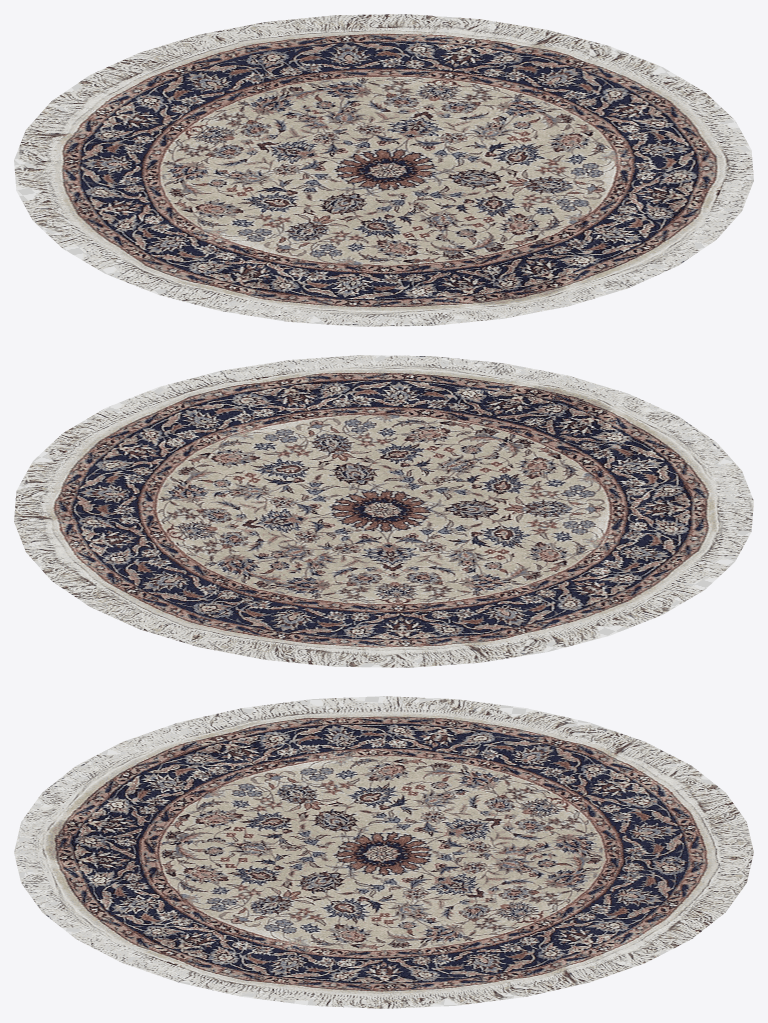
Rendered from Tham.fbx.
3 views of the same model, one above another, from view 1: azimuth 30°, elevation 25°; view 2: azimuth 150°, elevation 25°; view 3: azimuth 270°, elevation 25° (orthographic).
Parts seen in each view (by area): view 1: Plane.001; view 2: Plane.001; view 3: Plane.001.
Part boxes in pixels (x1,y1,x2,y2): Plane.001: [14, 14, 753, 326]; Plane.001: [14, 355, 753, 667]; Plane.001: [14, 696, 753, 1008].
Bounding box in the file's own units: 4.3 × 4.3 × 0.
1 material, 1 textured.
